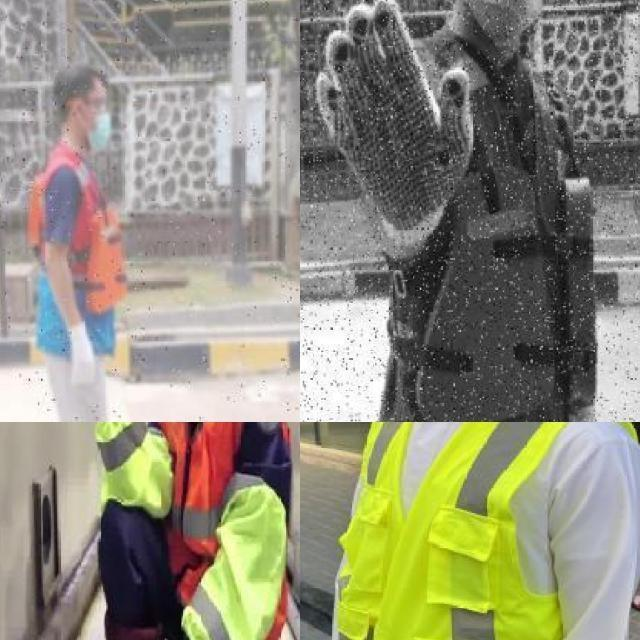apron: (307, 0, 478, 252), (64, 322, 98, 391)
